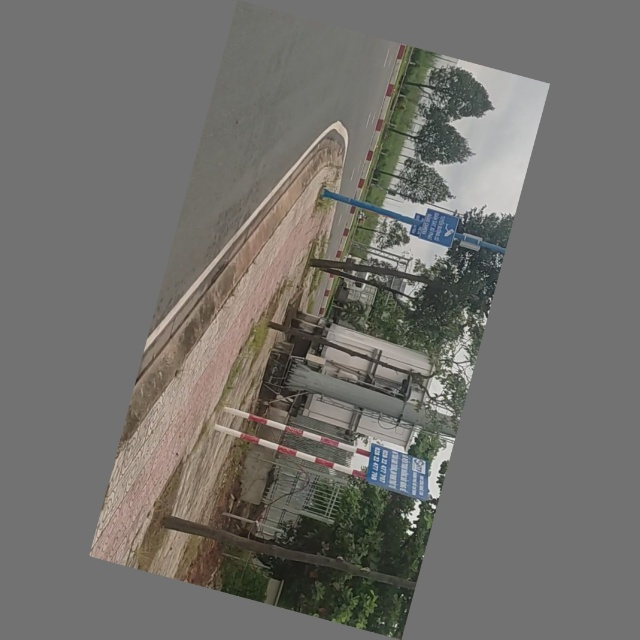Camera: (419, 204, 464, 251)
